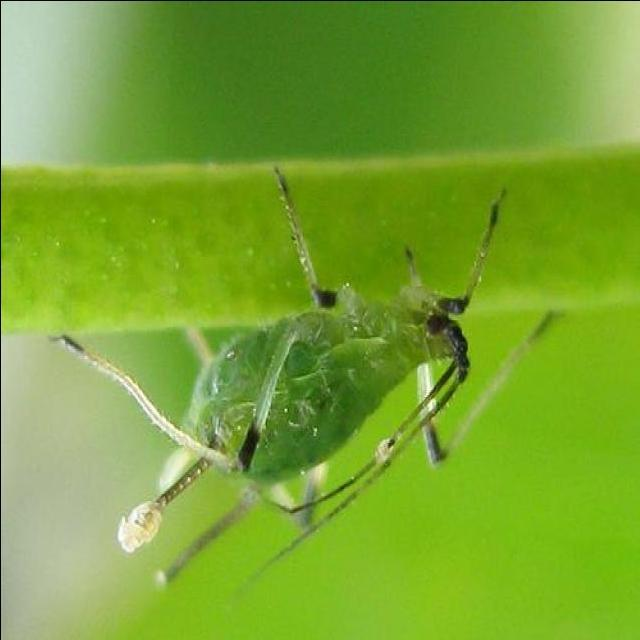aphid: (111, 193, 517, 558)
